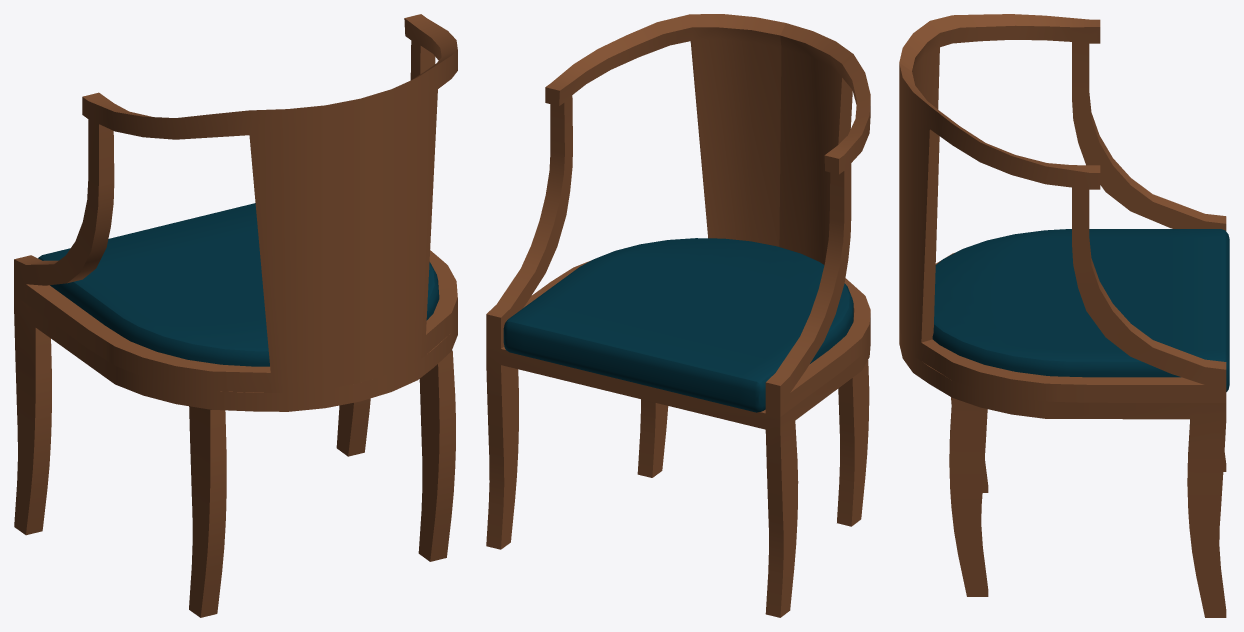
The model's file is Chair_Wood_04.glb.
3 views of the same model, side by side, from view 1: azimuth 30°, elevation 25°; view 2: azimuth 150°, elevation 25°; view 3: azimuth 270°, elevation 25° (orthographic). The views are drawn at different scales.
Visible parts, largest first — view 1: Mesh_Chair_Wood_04; view 2: Mesh_Chair_Wood_04; view 3: Mesh_Chair_Wood_04.
Boxes of the visible parts, x1,y1,x2,y2 form: Mesh_Chair_Wood_04: [14, 14, 457, 617]; Mesh_Chair_Wood_04: [486, 14, 870, 617]; Mesh_Chair_Wood_04: [899, 14, 1229, 617].
Size of the model in its own units: 0.5 by 0.7263 by 0.4547.
1 material, 1 textured.
